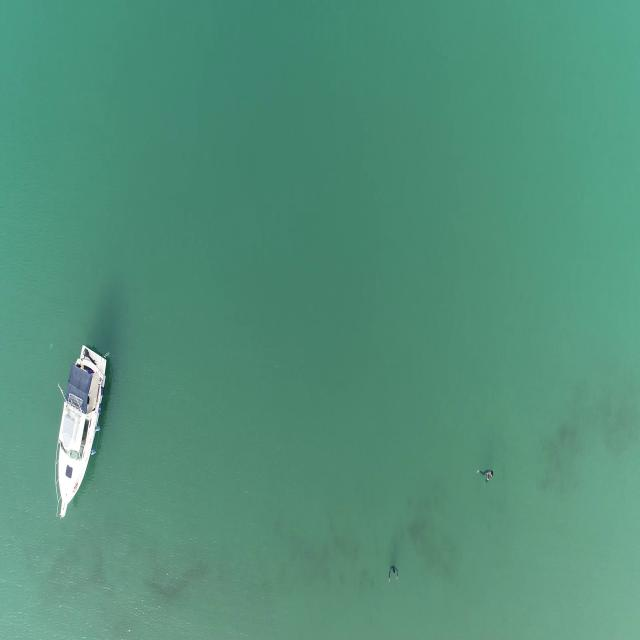boat: (50, 344, 111, 518)
person: (478, 464, 493, 487), (386, 563, 400, 586)
